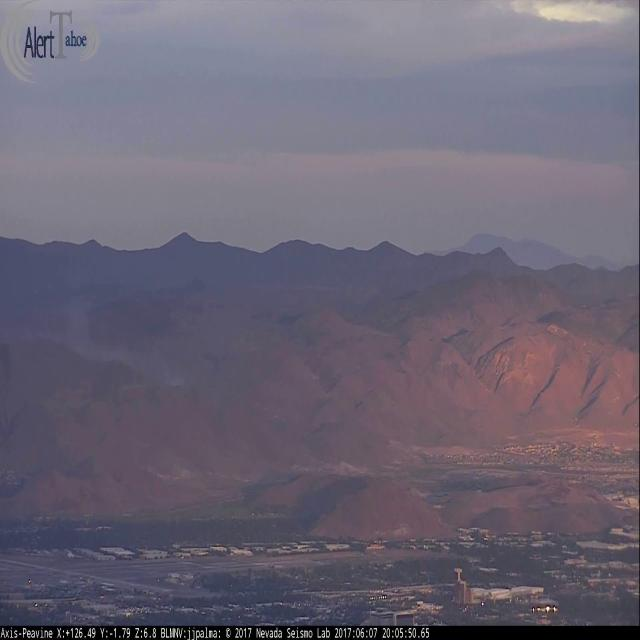smoke: (0, 288, 196, 390)
